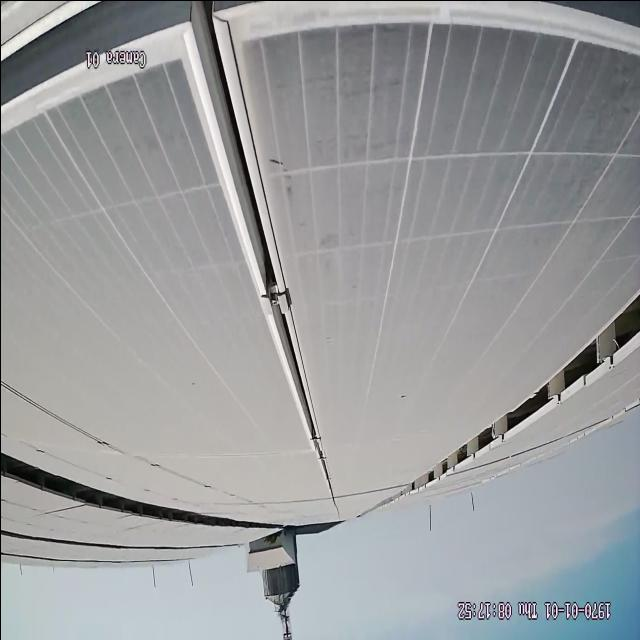interior panel: (0, 0, 640, 505)
outher panel: (381, 300, 639, 507), (0, 452, 259, 526)
